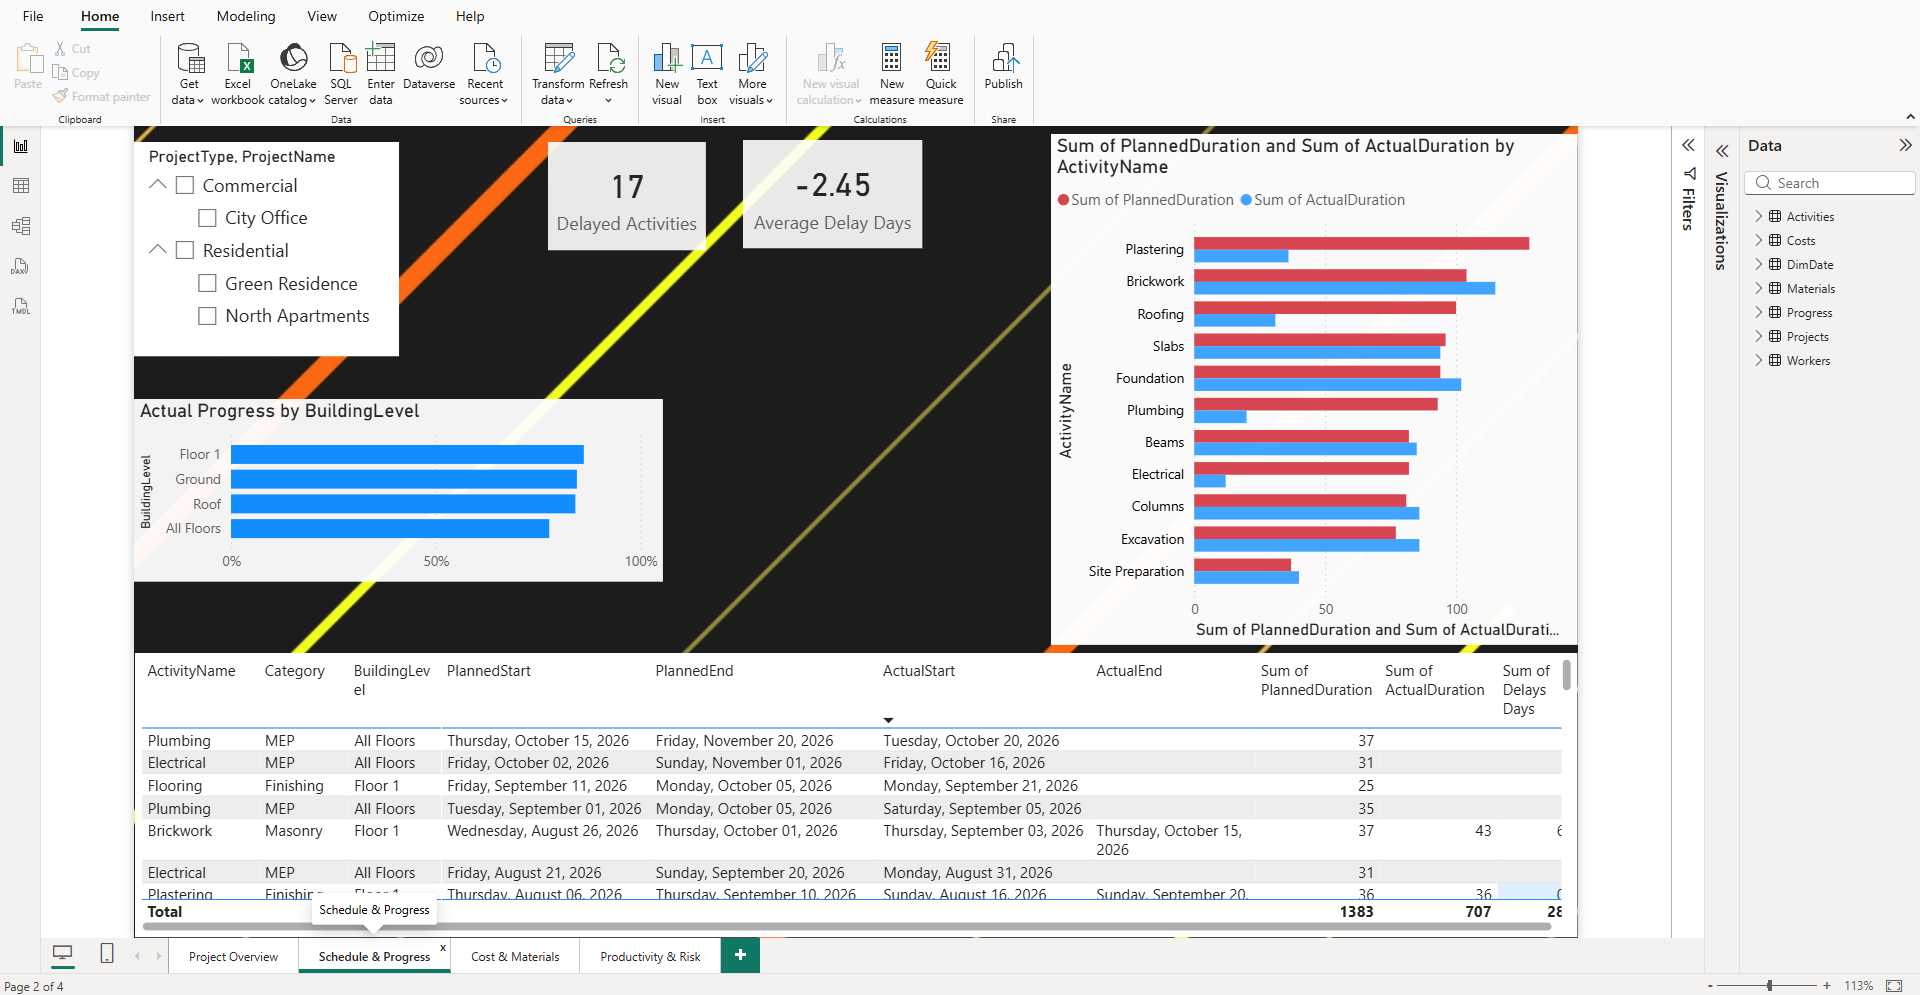

Layout of this report page (visuals, bound fields, positions):
{"tool":"powerbi","page":{"name":"Schedule & Progress","canvas":[1280,720],"ordinal":1},"visuals":[{"type":"card","fields":{"Values":["Activities.Delayed Activities"]},"box":[366.8,14,139.7,95.9],"z":1000},{"type":"card","fields":{"Values":["Activities.Average Delay Days"]},"box":[540,12.7,159.1,96.4],"z":2000},{"type":"clusteredBarChart","fields":{"Category":["Activities.ActivityName"],"Y":["Sum(Activities.PlannedDuration)","Sum(Activities.ActualDuration)"]},"box":[813,7,467,453],"z":3000},{"type":"clusteredBarChart","fields":{"Category":["Activities.BuildingLevel"],"Y":["Progress.Actual Progress"]},"box":[0,241.8,469.1,161.8],"z":4000},{"type":"tableEx","fields":{"Values":["Activities.ActivityName","Activities.Category","Activities.BuildingLevel","Activities.PlannedStart","Activities.PlannedEnd","Activities.ActualStart","Activities.ActualEnd","Sum(Activities.PlannedDuration)","Sum(Activities.ActualDuration)","Sum(Activities.Delays Days)"]},"box":[0.9,467.4,1279.2,252.3],"z":5000},{"type":"slicer","fields":{"Values":["Projects.ProjectType","Projects.ProjectName"]},"box":[0,14.5,235.5,190],"z":5002}]}

Visuals, with their boxes on the page's 1280x720 design canvas (x1, y1, x2, y2). These are canvas units, not pixel positions in the 1920x995 screenshot, which may show the page scaled, cropped or inside an application window:
card - Activities.Delayed Activities: left=367, top=14, right=506, bottom=110
card - Activities.Average Delay Days: left=540, top=13, right=699, bottom=109
clusteredBarChart - Activities.ActivityName x Sum(Activities.PlannedDuration): left=813, top=7, right=1280, bottom=460
clusteredBarChart - Activities.BuildingLevel x Progress.Actual Progress: left=0, top=242, right=469, bottom=404
tableEx - Activities.ActivityName x Activities.Category: left=1, top=467, right=1280, bottom=720
slicer - Projects.ProjectType x Projects.ProjectName: left=0, top=14, right=236, bottom=204
